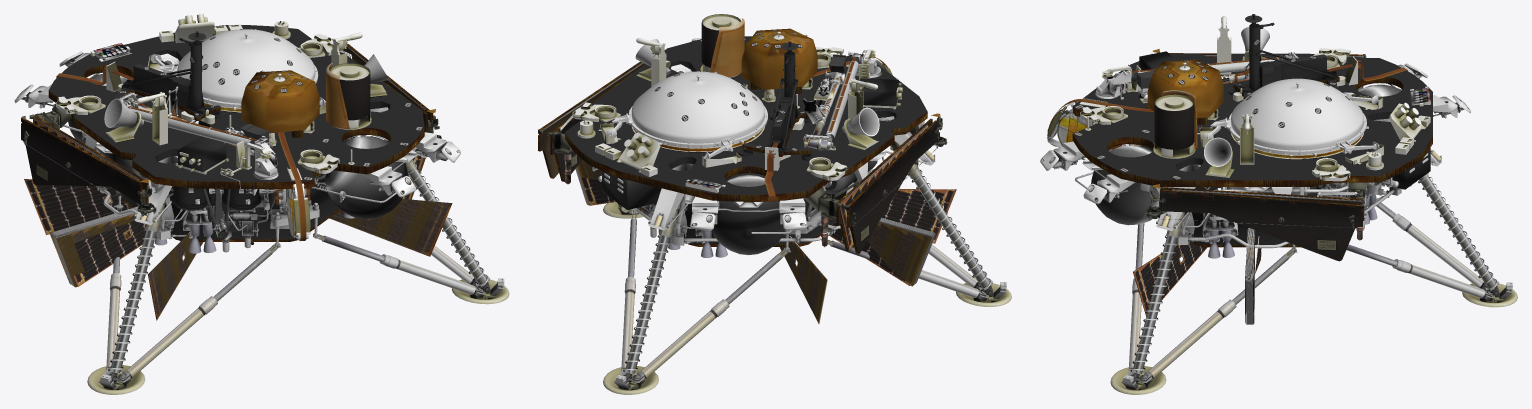
Rendered from nasa-insight-descent.glb.
3 renders of one model, left to right at view 1: azimuth 30°, elevation 25°; view 2: azimuth 150°, elevation 25°; view 3: azimuth 270°, elevation 25°, orthographic. The views are drawn at different scales.
Visible parts, largest first — view 1: deck, leg_b, panel_l_root, WTS, Cube.054, panel_l.019, SEIS, HP3_v3d_baked, Cube.079, pressure_inlet, UHF_antenna, arm_02 (+3 smaller); view 2: deck, leg_b, WTS, panel_l_root, Cube.054, SEIS, pressure_inlet, HP3_v3d_baked, UHF_antenna, arm_02, Cube.079, panel_l.019 (+3 smaller); view 3: deck, leg_b, panel_l_root, WTS, HP3_v3d_baked, SEIS, UHF_antenna, pressure_inlet, Cube.054, arm_02, panel_l.019, cable_02 (+2 smaller).
Boxes of the visible parts, x1,y1,x2,y2 form: deck: (14,14,460,253); leg_b: (87,139,509,394); panel_l_root: (21,44,441,216); WTS: (158,29,318,110); Cube.054: (49,199,452,320); panel_l.019: (51,155,425,287); SEIS: (241,70,319,138); HP3_v3d_baked: (113,31,225,121); Cube.079: (24,179,131,234); pressure_inlet: (104,32,389,145); UHF_antenna: (326,62,371,129); arm_02: (118,86,275,165); deck: (555,34,935,257); leg_b: (603,141,1011,394); WTS: (612,71,767,151); panel_l_root: (538,61,947,254); Cube.054: (577,159,956,285); SEIS: (741,28,817,94); pressure_inlet: (635,38,879,149); HP3_v3d_baked: (737,41,816,160); UHF_antenna: (700,14,744,77); arm_02: (803,51,862,150); Cube.079: (779,236,827,323); panel_l.019: (575,167,935,285); deck: (1040,48,1470,258); leg_b: (1110,173,1517,394); panel_l_root: (1146,49,1366,261); WTS: (1210,78,1368,156); HP3_v3d_baked: (1228,14,1339,103); SEIS: (1147,59,1223,124); UHF_antenna: (1153,90,1197,158); pressure_inlet: (1204,16,1269,177); Cube.054: (1133,230,1255,316); arm_02: (1107,52,1298,101); panel_l.019: (1245,228,1254,324); cable_02: (1047,64,1361,158).
Bounding box in the file's own units: 2.47 × 1.58 × 2.56.
Materials: 17 (13 with a texture image).
